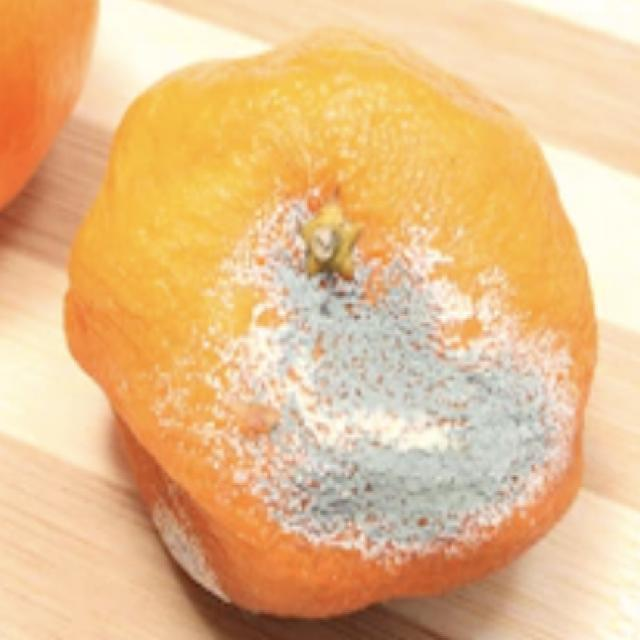rotten-orange: (62, 37, 603, 621)
